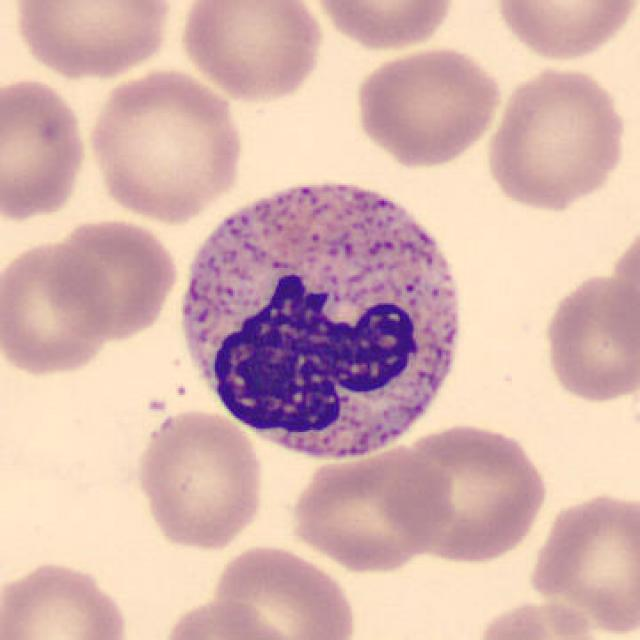Neutrophil: (167, 160, 475, 474)
RBC: (83, 65, 249, 226), (388, 418, 551, 566), (285, 439, 455, 575), (480, 60, 631, 213), (132, 406, 268, 554), (350, 42, 505, 170), (46, 213, 182, 342), (524, 487, 638, 638), (0, 235, 116, 379), (176, 0, 327, 106), (208, 541, 359, 640), (9, 0, 178, 81), (0, 74, 91, 224), (539, 268, 638, 405), (0, 555, 133, 639), (491, 0, 638, 65), (307, 0, 458, 53), (468, 594, 615, 640), (158, 596, 297, 640)
